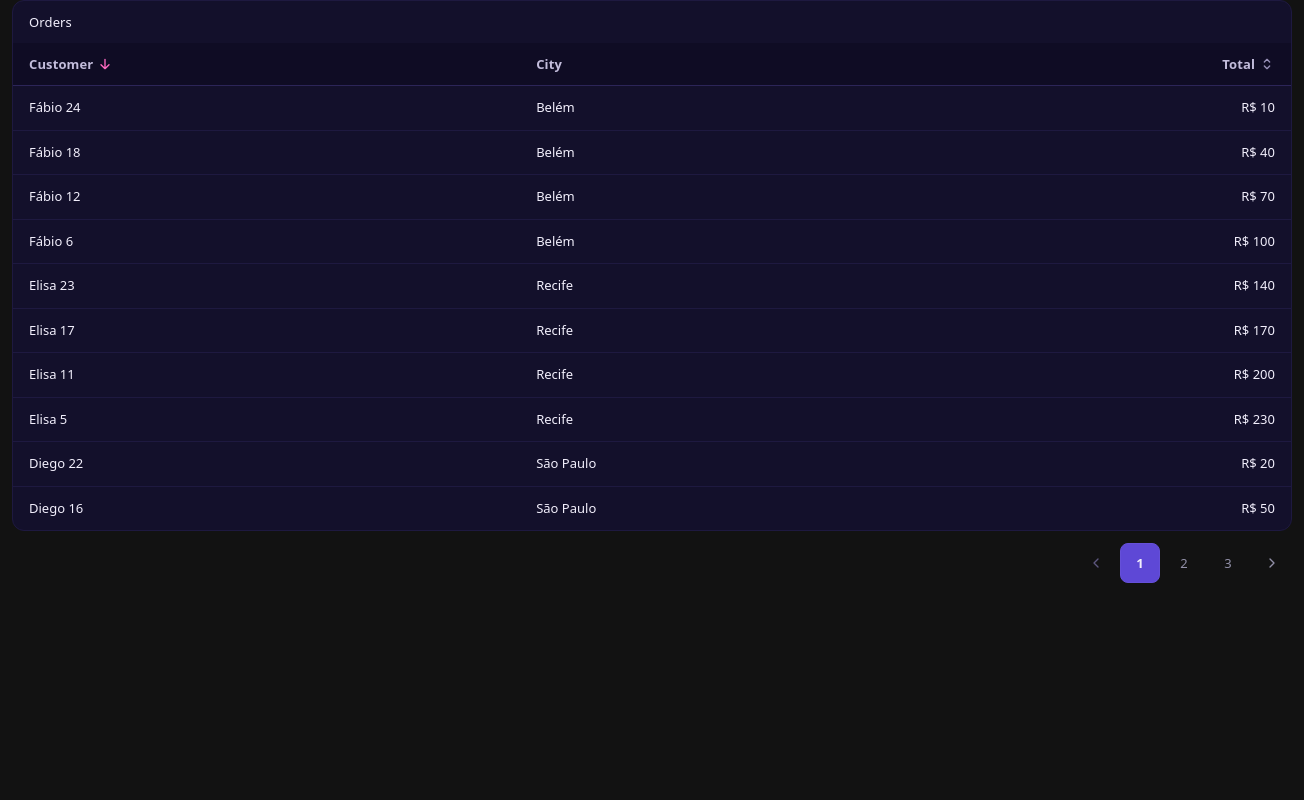
Scenario: DataTable sorting › can be controlled by the parent
Click the button "Customer". click: (61, 64)
box: x1=13 y1=43 x2=520 y2=85
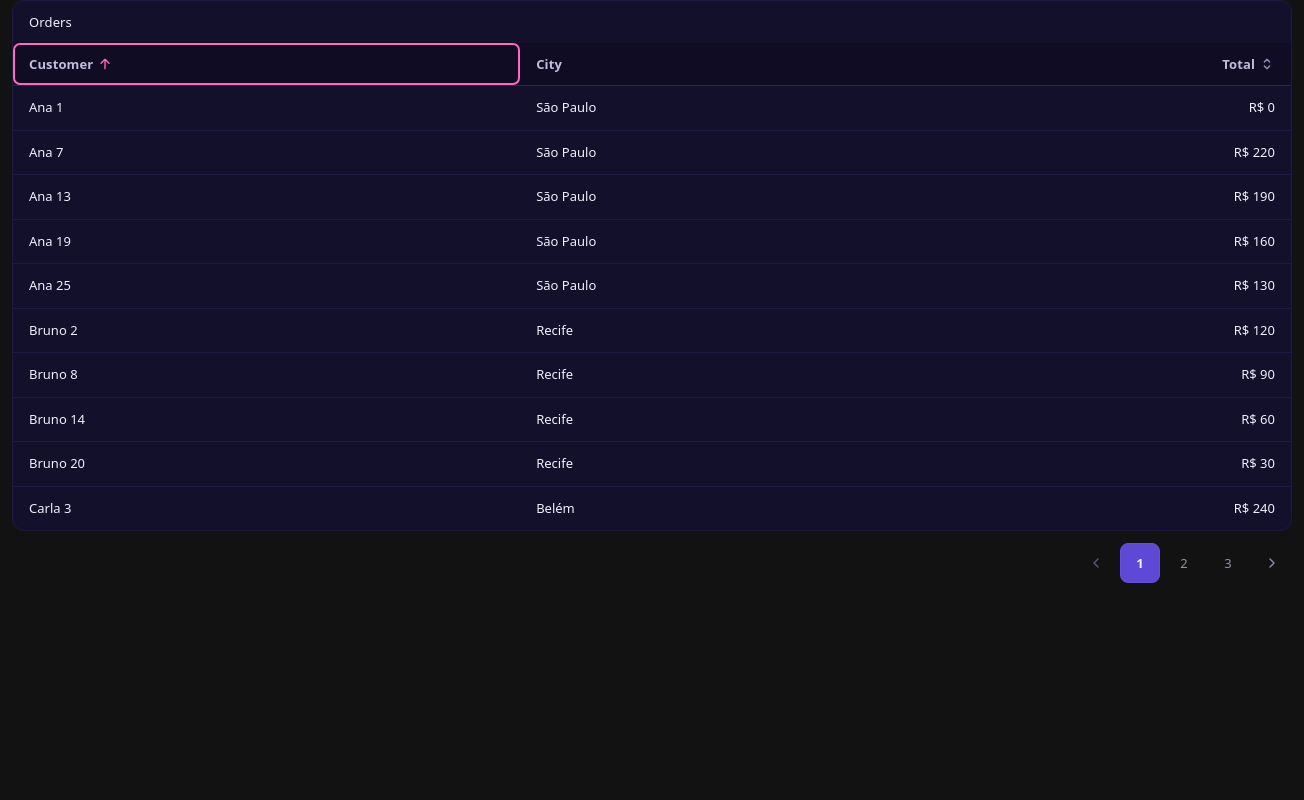
Expected: the column heading "Ana 1" is shown, x1=13 y1=86 x2=520 y2=130
